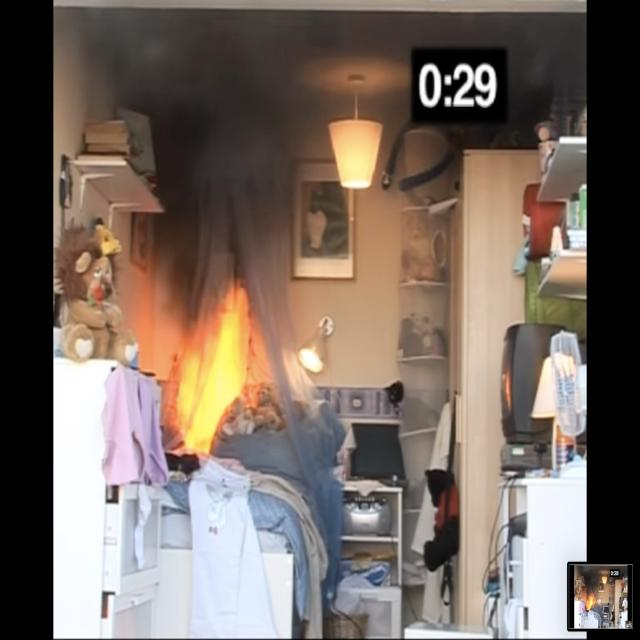Fogo: (130, 261, 294, 507)
